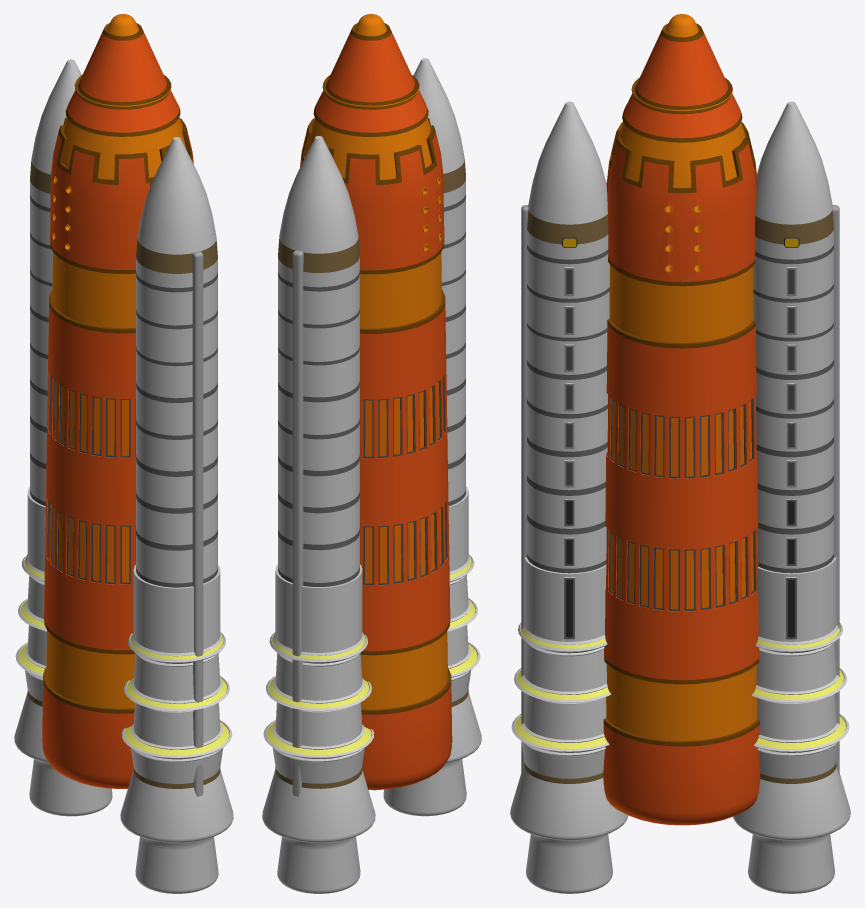
Rendered from RocketFuelThing.gltf.
3 renders of one model, left to right at view 1: azimuth 30°, elevation 25°; view 2: azimuth 150°, elevation 25°; view 3: azimuth 270°, elevation 25°, orthographic. The views are drawn at different scales.
Parts seen in each view (by area): view 1: Cylinder; view 2: Cylinder; view 3: Cylinder.
Part boxes in pixels (bbox=[...]): Cylinder: bbox=[14, 14, 233, 893]; Cylinder: bbox=[262, 14, 481, 893]; Cylinder: bbox=[510, 14, 850, 893].
Size of the model in its own units: 1.31 by 7.29 by 2.62.
